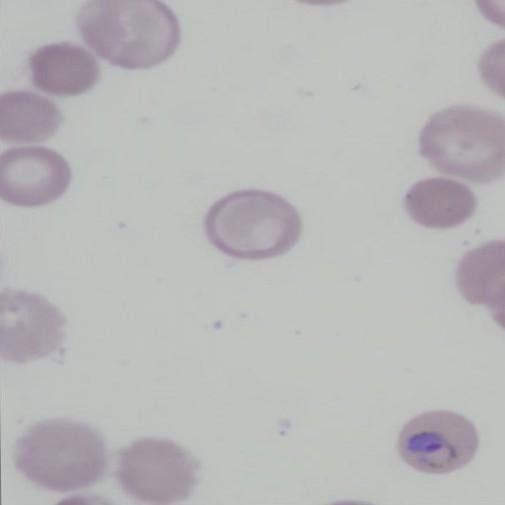Infected: (397, 405, 478, 478)
Uninfected: (79, 0, 182, 70), (417, 103, 505, 183), (204, 189, 300, 261), (16, 418, 108, 491), (120, 436, 197, 505), (1, 145, 71, 206), (33, 41, 98, 95), (408, 176, 474, 229), (0, 93, 64, 146)
